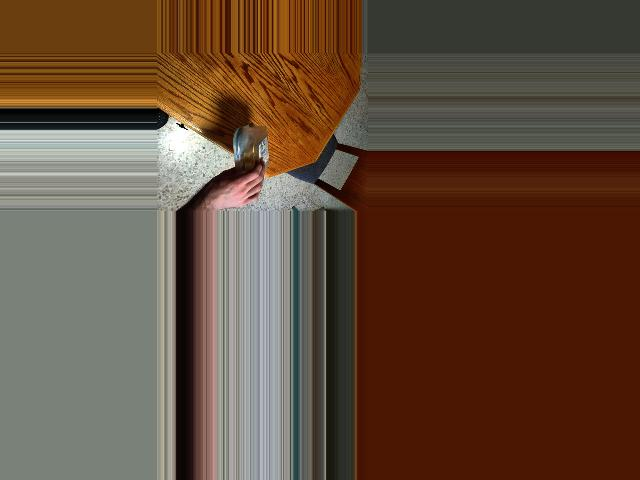cheese: (219, 119, 278, 185)
